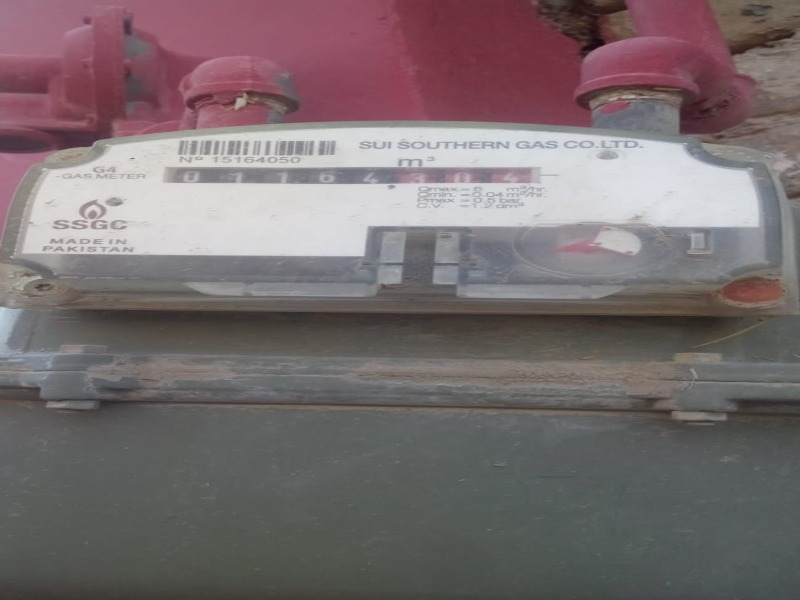ssgc: (158, 160, 546, 190)
